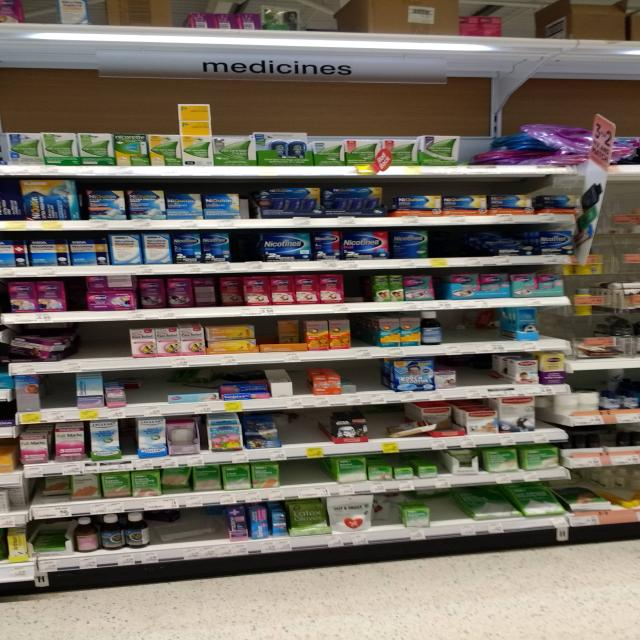void: (157, 513, 226, 542), (68, 329, 122, 358), (450, 312, 505, 339), (373, 405, 412, 439), (288, 412, 324, 446), (465, 356, 502, 388), (349, 361, 387, 392), (436, 229, 480, 254), (133, 372, 161, 406), (293, 459, 326, 483), (45, 376, 68, 410), (436, 490, 458, 522)
